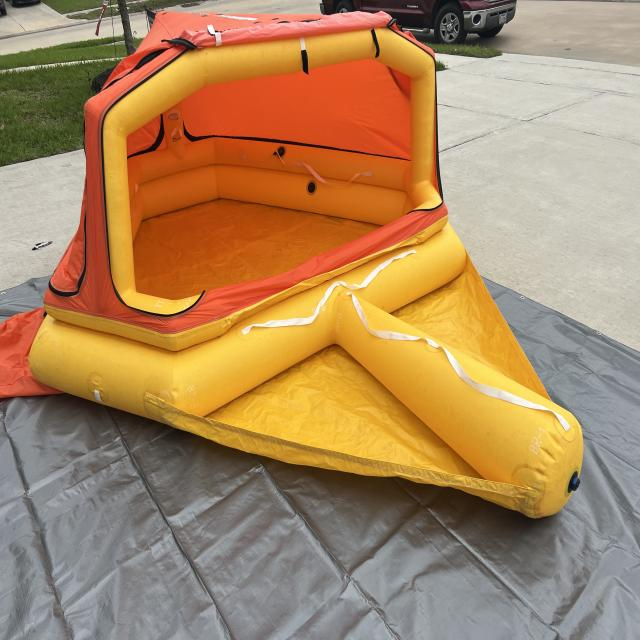Multi-person_life_raft: (1, 9, 584, 518)
